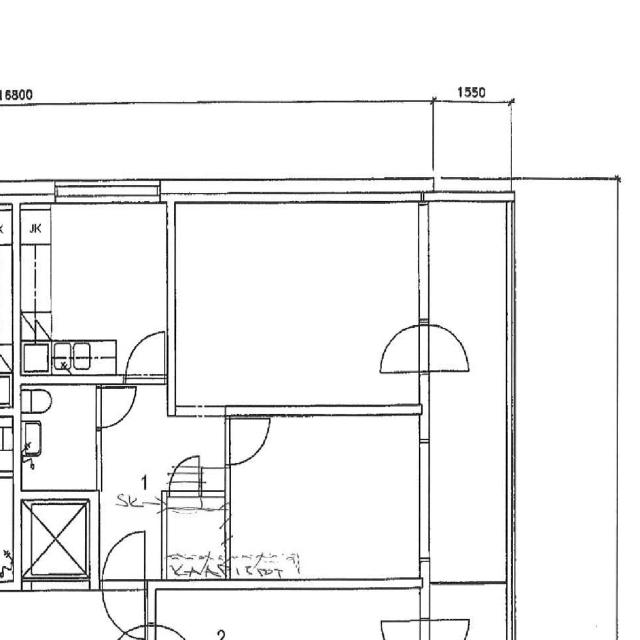door: (101, 583, 146, 638), (124, 327, 170, 380), (103, 528, 148, 582), (378, 320, 422, 375), (426, 322, 471, 372), (227, 416, 270, 468), (97, 384, 137, 430), (169, 453, 202, 495), (156, 620, 188, 640), (118, 624, 146, 640)
window: (56, 177, 162, 203)
zone: (172, 202, 422, 412), (227, 415, 423, 584), (19, 202, 169, 376), (21, 383, 99, 492), (432, 99, 512, 185), (165, 492, 229, 580)
